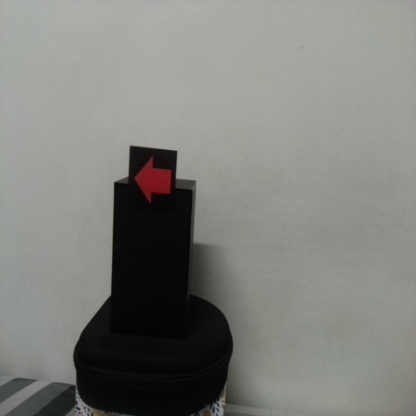id_4: (129, 148, 176, 216)
